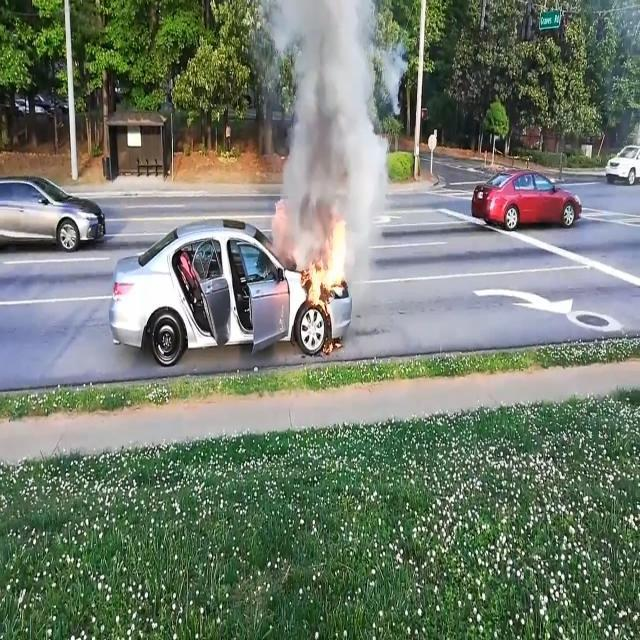fire: (294, 205, 356, 358)
